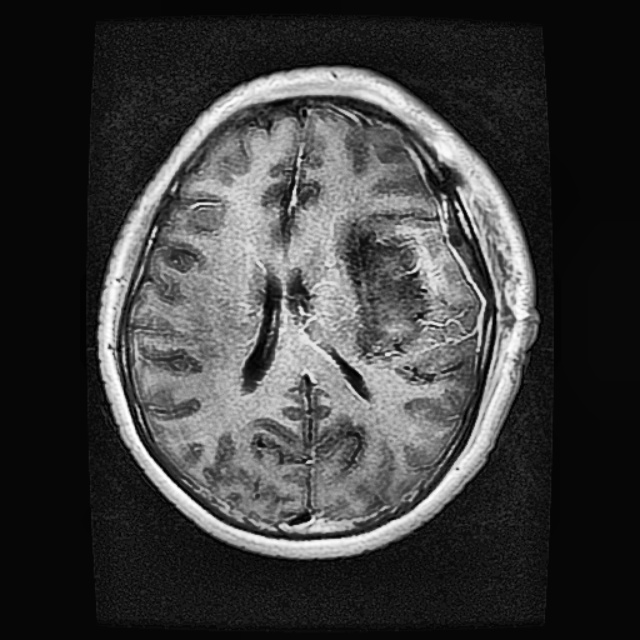Pituitary: (333, 213, 433, 362)
